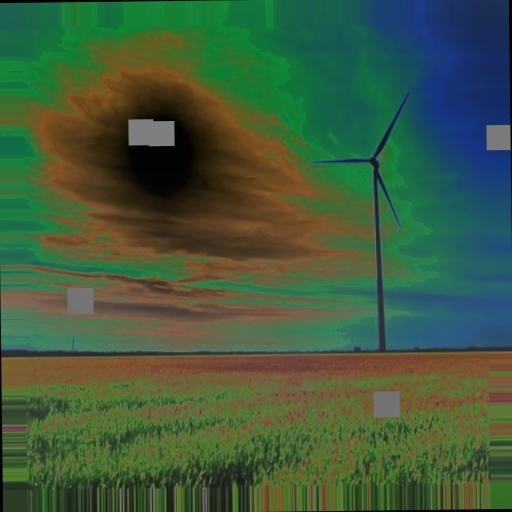wind turbine: (310, 90, 411, 355)
